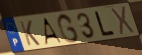3: (77, 12, 95, 40)
A: (43, 16, 63, 46)
G: (56, 13, 81, 44)
K: (19, 20, 42, 47)
L: (93, 10, 117, 37)
X: (110, 5, 136, 37)
